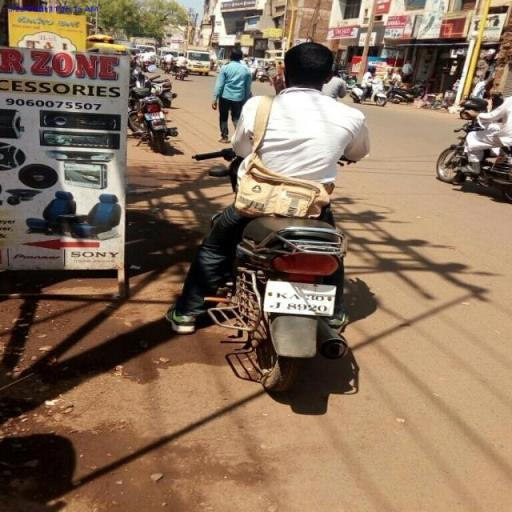using mobile: (272, 66, 292, 94)
